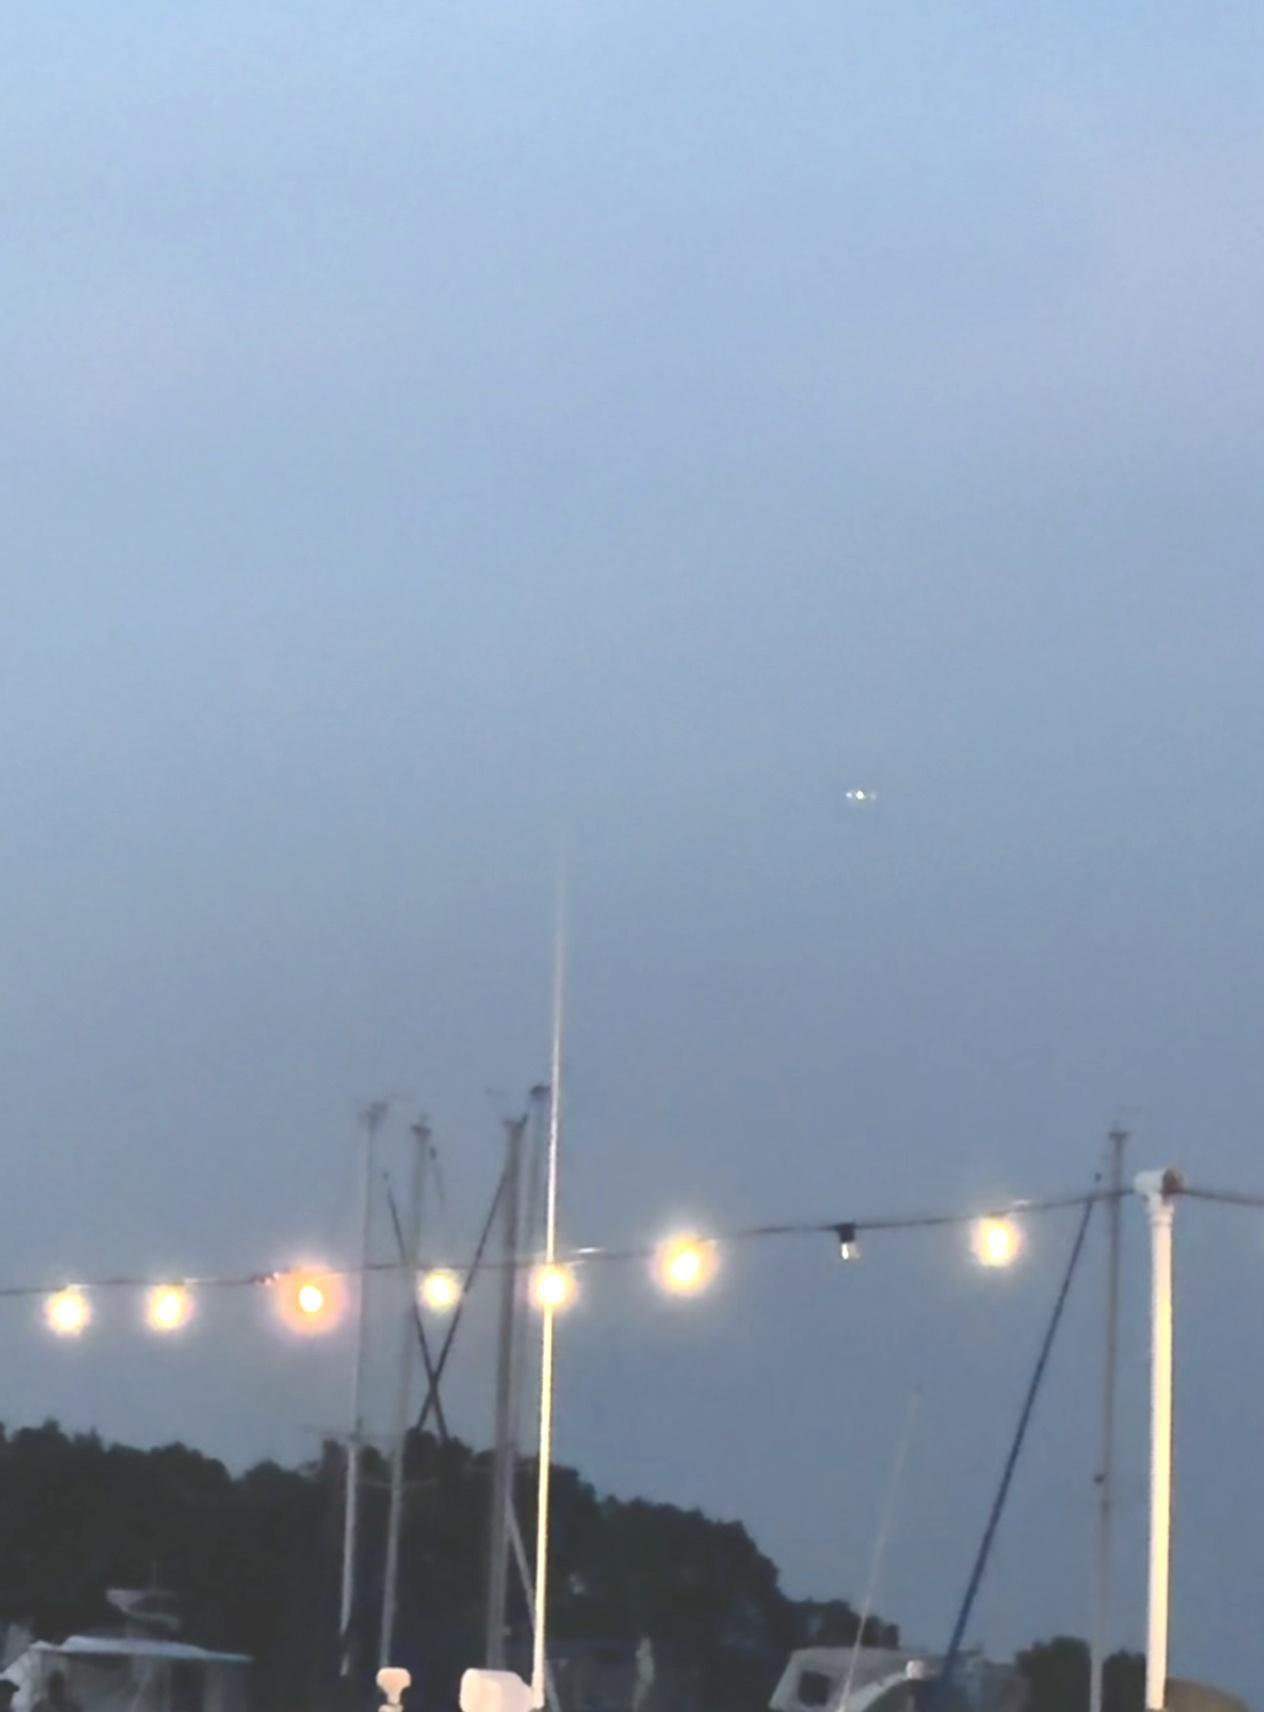Plane: (829, 774, 888, 815)
